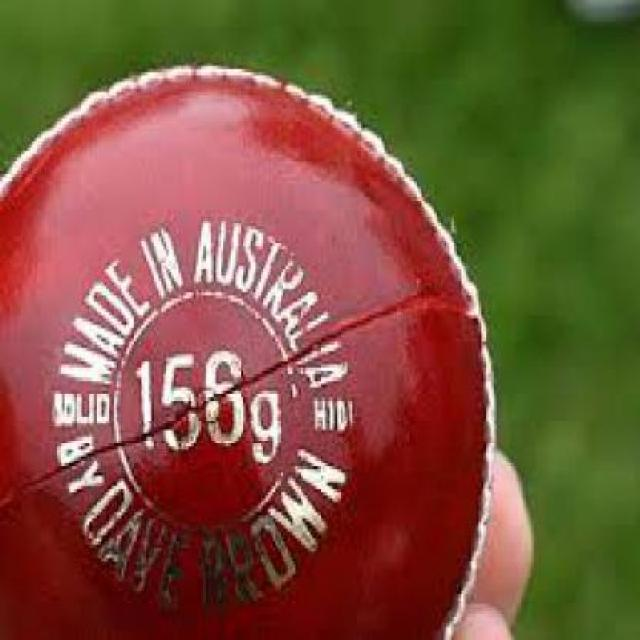ball: (1, 54, 513, 640)
